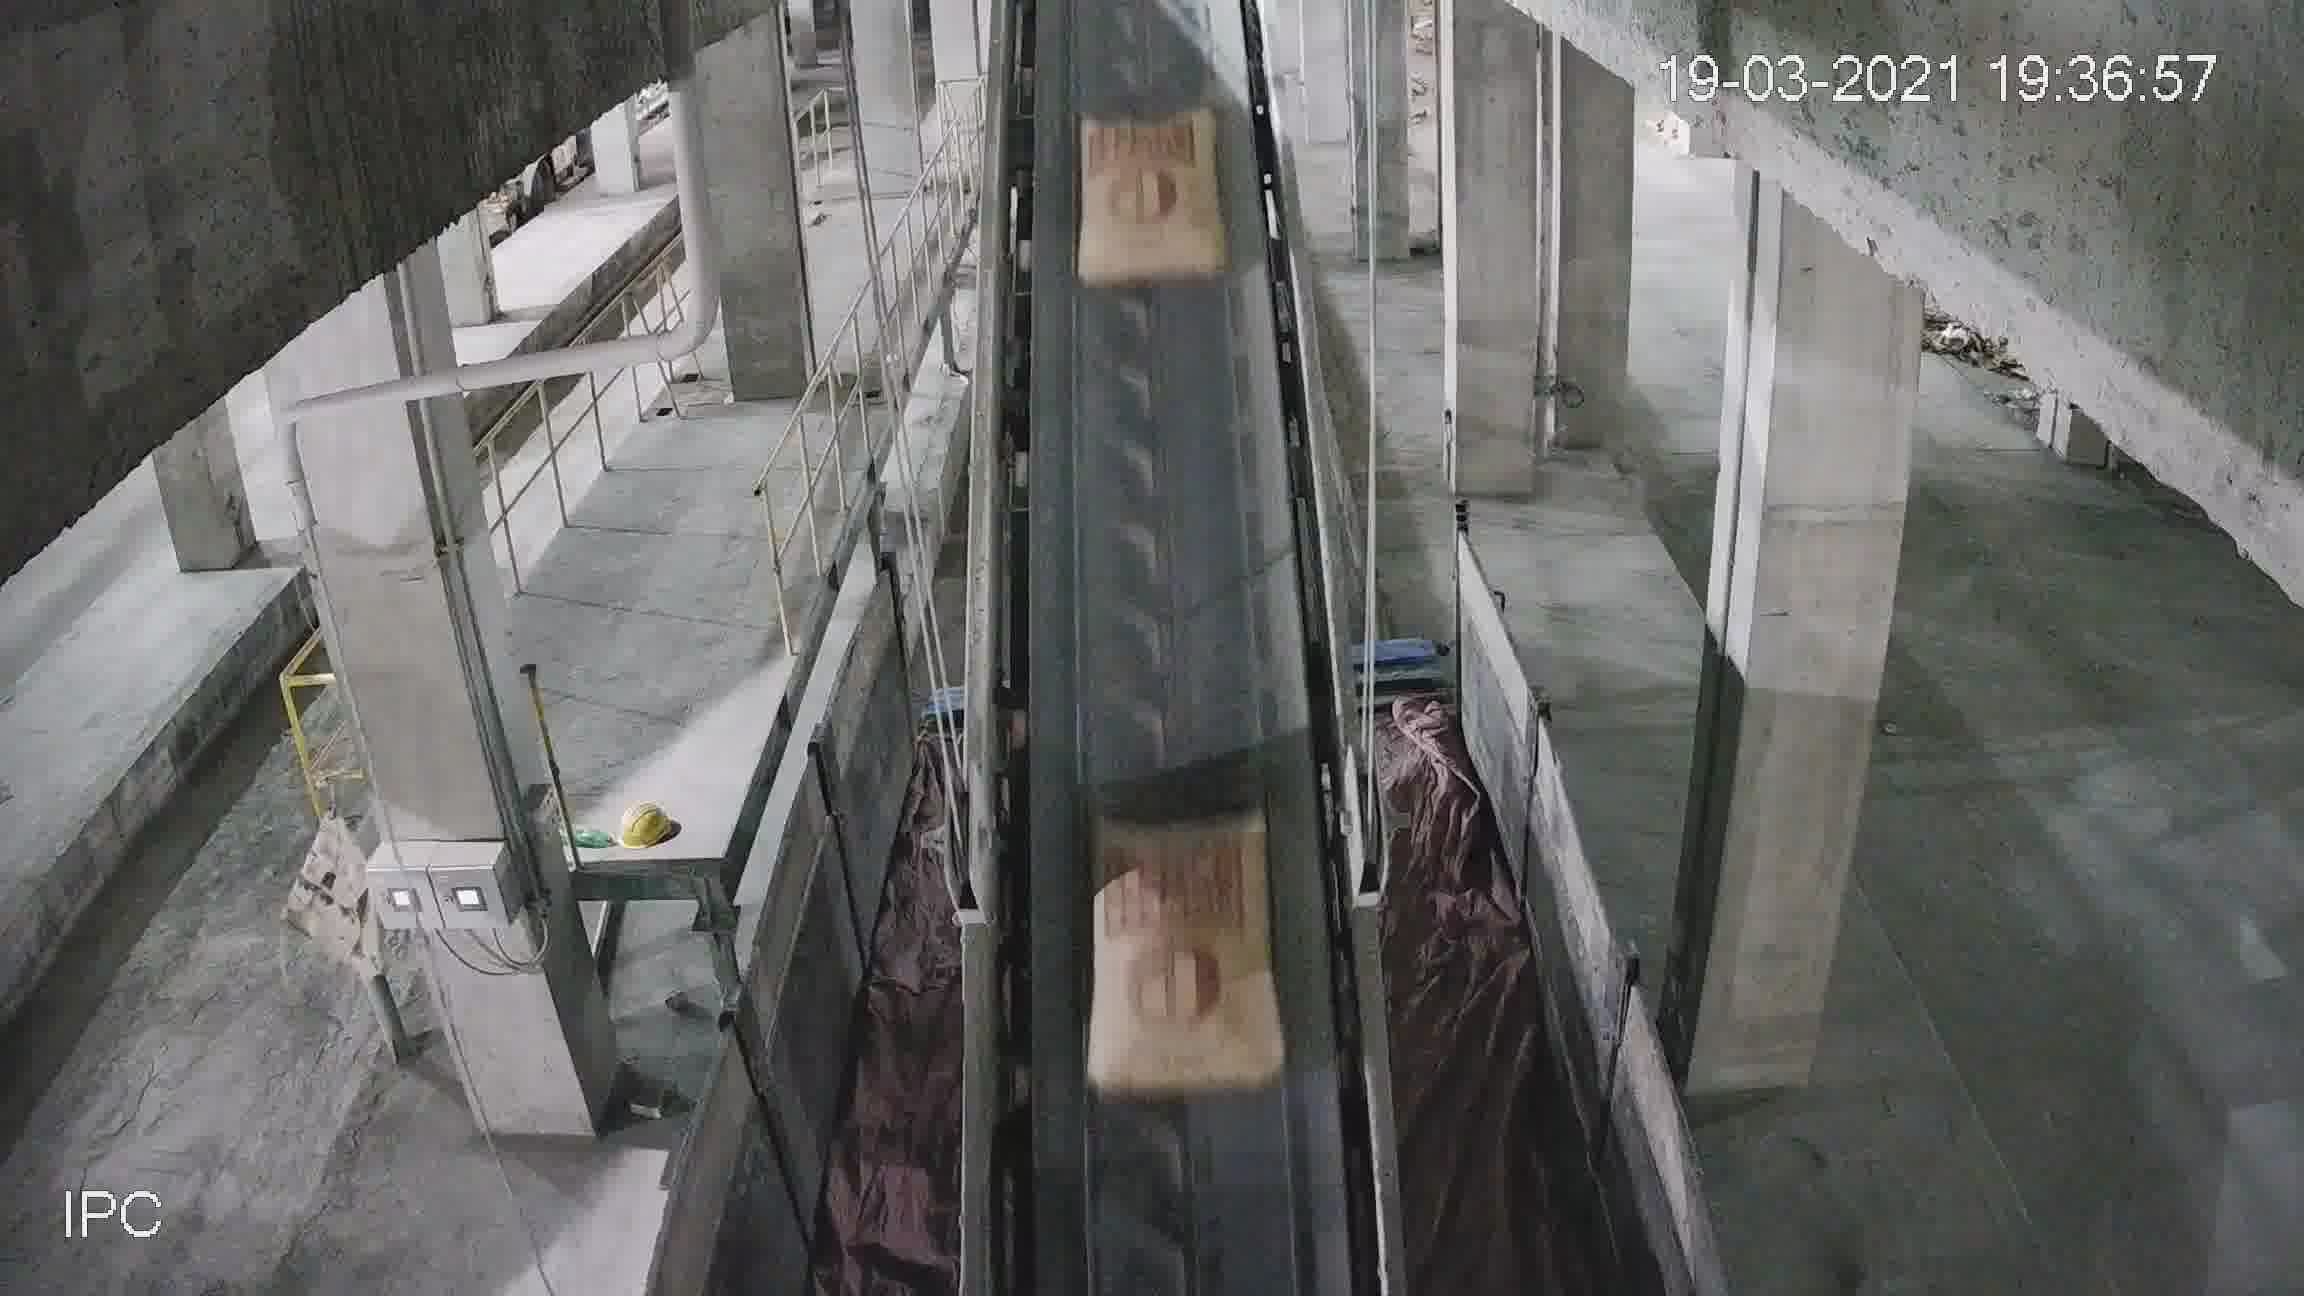bag: (1100, 820, 1275, 1109), (1079, 119, 1225, 282)
belt: (984, 5, 1383, 1067)
